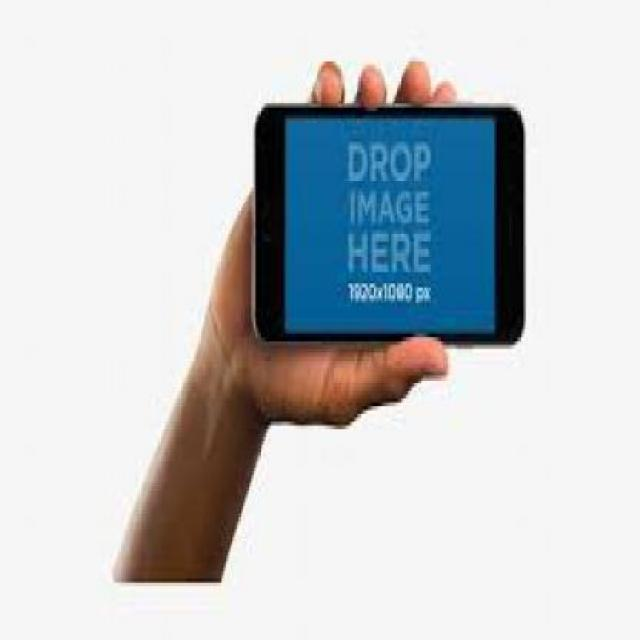phone: (253, 103, 524, 341)
